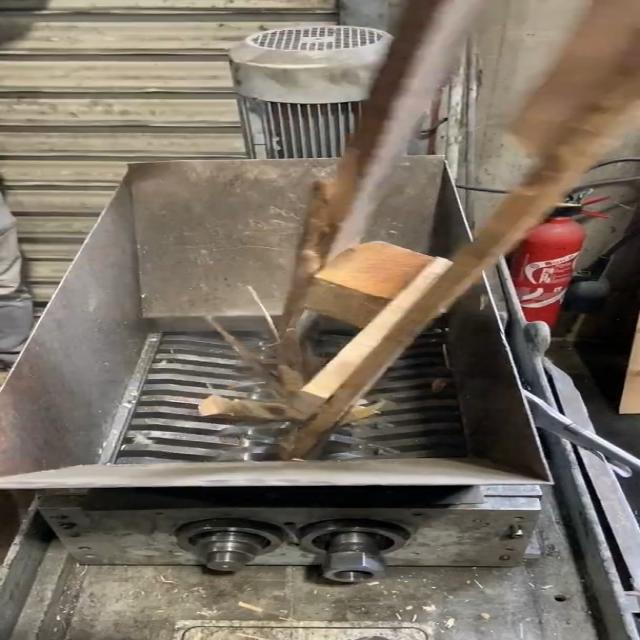Broyeur: (78, 302, 493, 486)
Palette: (250, 0, 630, 434)
